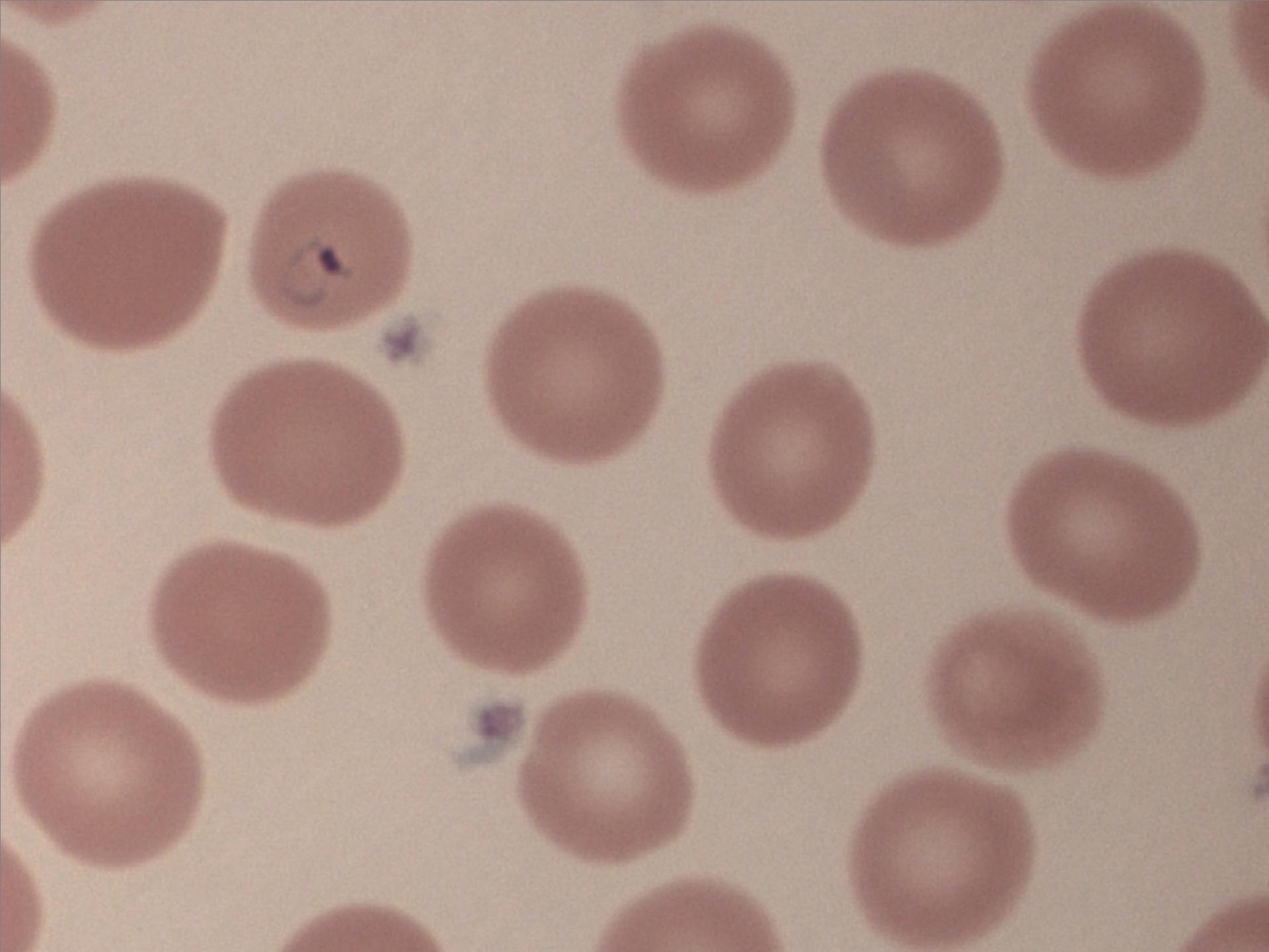Infected: (249, 170, 407, 328)
Uninfected: (10, 679, 201, 867), (850, 769, 1035, 952), (31, 177, 222, 354), (1009, 443, 1201, 617), (1084, 254, 1266, 433), (211, 360, 401, 527), (923, 602, 1106, 770), (520, 694, 698, 865), (824, 73, 997, 247), (1029, 7, 1207, 172), (493, 287, 662, 460), (152, 542, 330, 705), (714, 362, 880, 536), (623, 21, 792, 191), (696, 580, 859, 749), (427, 501, 588, 667)
